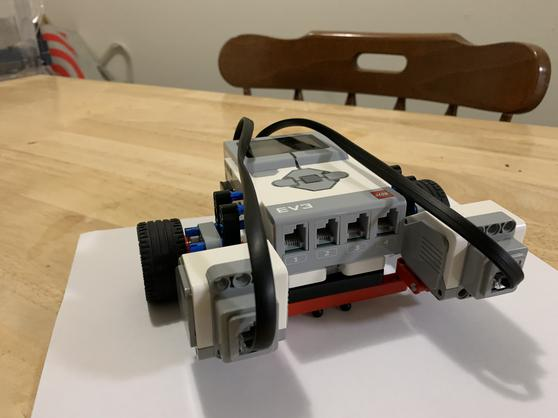robot: (119, 113, 528, 368)
